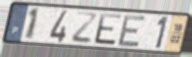1: (23, 7, 41, 42), (155, 16, 169, 51)
4: (49, 8, 69, 44)
E: (93, 12, 124, 47), (116, 14, 147, 48)
Z: (70, 11, 99, 45)
